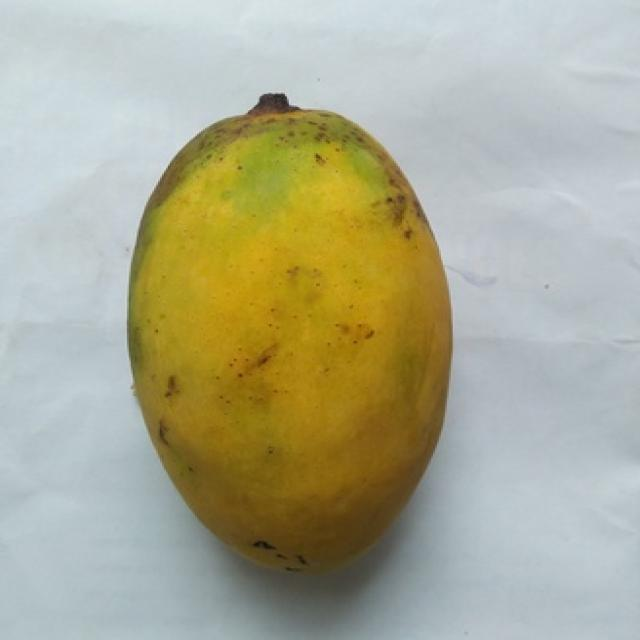Mango: (129, 102, 451, 568)
